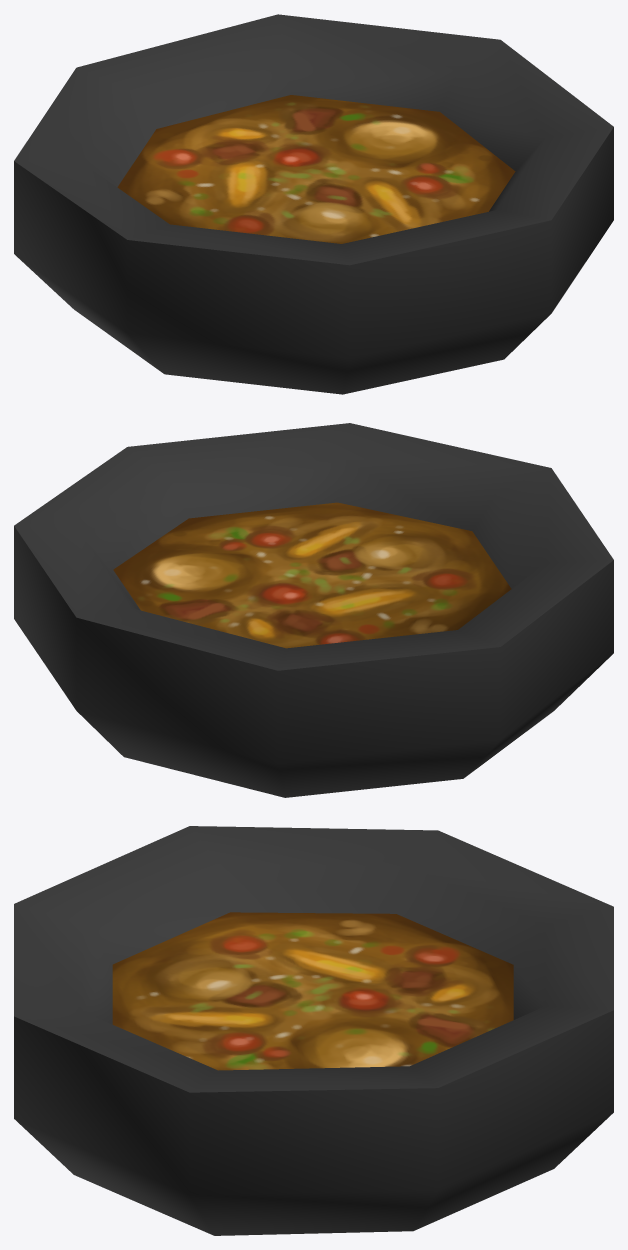
The model's file is SM_PROP_bowl_wood_02.FBX.
The picture shows the model from 3 angles, top to bottom: view 1: azimuth 30°, elevation 25°; view 2: azimuth 150°, elevation 25°; view 3: azimuth 270°, elevation 25°; orthographic projection. The views are drawn at different scales.
Visible parts, largest first — view 1: SM_PROP_bowl_wood_02; view 2: SM_PROP_bowl_wood_02; view 3: SM_PROP_bowl_wood_02.
Part boxes in pixels (x1=…): SM_PROP_bowl_wood_02: x1=14, y1=14, x2=613, y2=394; SM_PROP_bowl_wood_02: x1=14, y1=423, x2=613, y2=797; SM_PROP_bowl_wood_02: x1=14, y1=826, x2=613, y2=1235.
Size of the model in its own units: 27.69 by 26.96 by 10.16.
